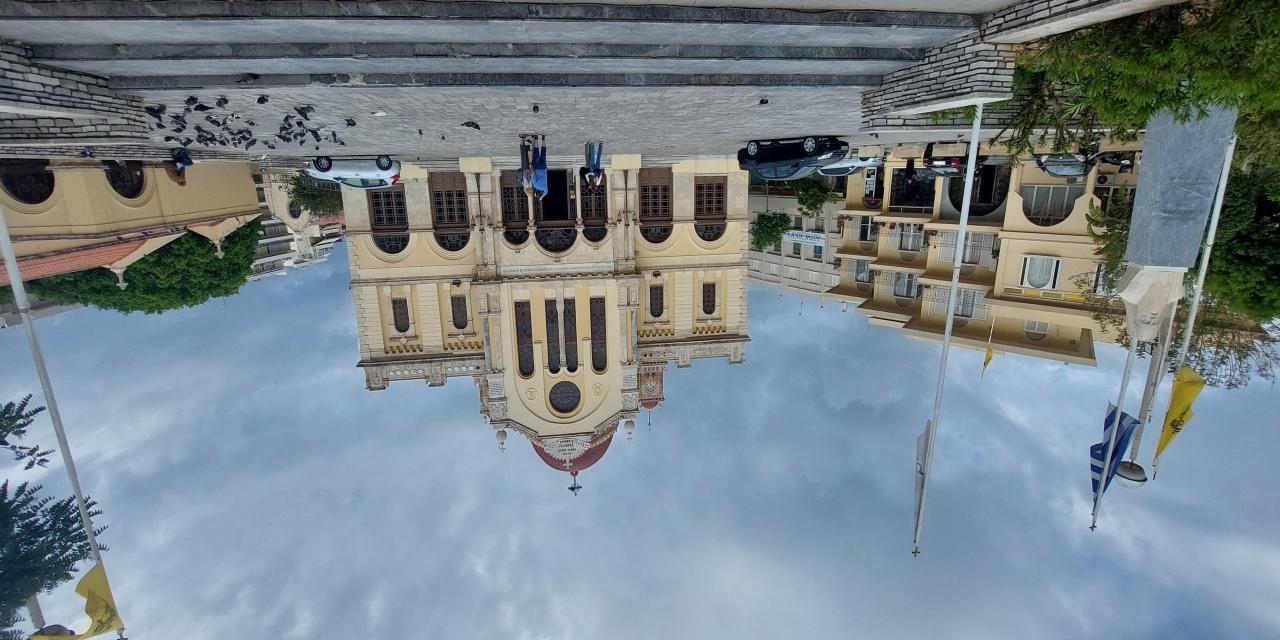Agios Minas: (333, 151, 753, 529)
